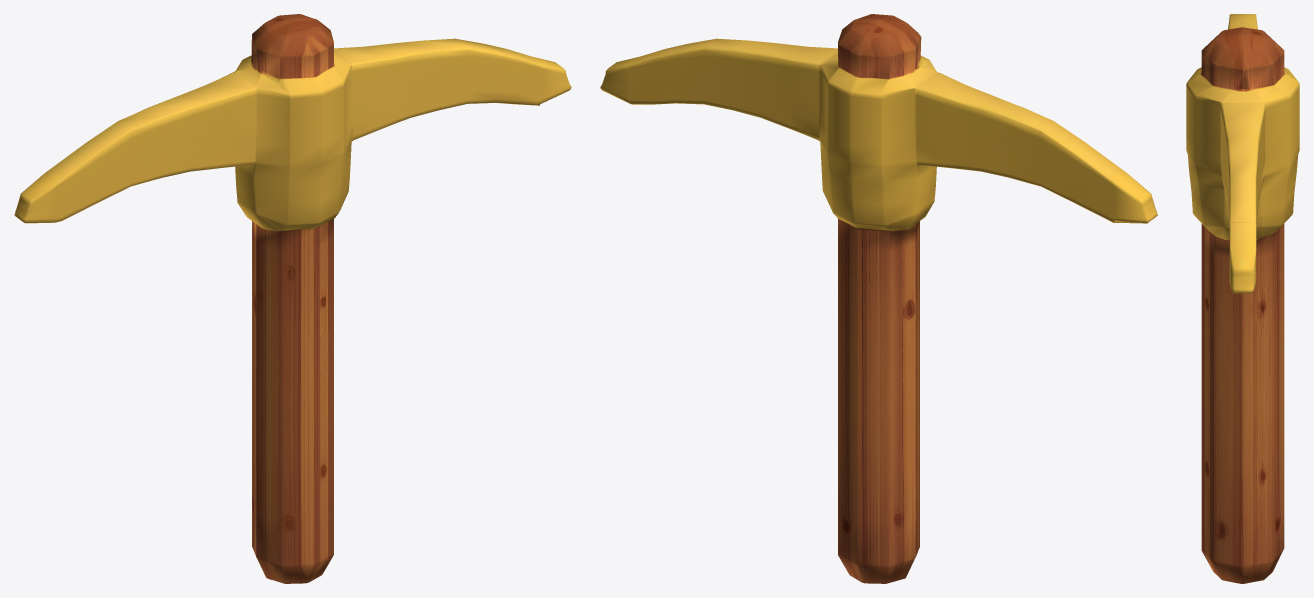
Rendered from Pickaxe_Gold.fbx.
3 renders of one model, left to right at view 1: azimuth 30°, elevation 25°; view 2: azimuth 150°, elevation 25°; view 3: azimuth 270°, elevation 25°, orthographic. The views are drawn at different scales.
Parts seen in each view (by area): view 1: Mesh_0; view 2: Mesh_0; view 3: Mesh_0.
Boxes of the visible parts, left/top/right/bottom form: Mesh_0: left=14, top=14, right=571, bottom=583; Mesh_0: left=600, top=14, right=1157, bottom=583; Mesh_0: left=1186, top=14, right=1299, bottom=583.
Size of the model in its own units: 191 by 186 by 34.83.
1 material, 1 textured.
